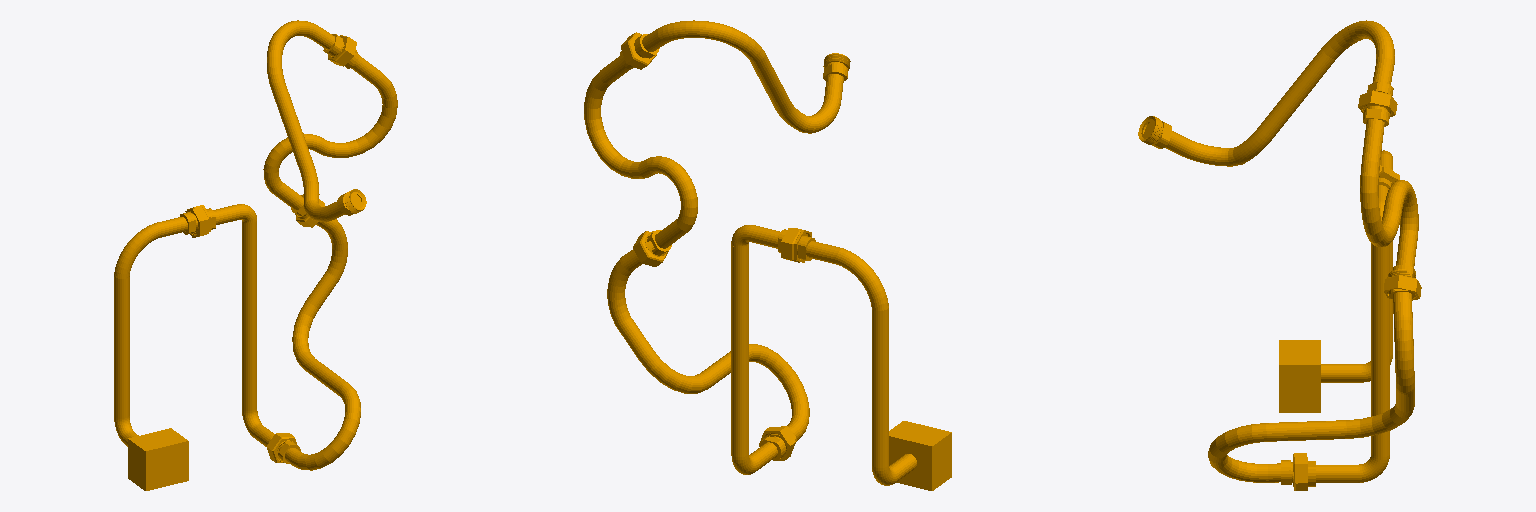
robot.urdf — pipedream_env:
<?xml version="1.0"?>
<robot name="pipedream_env">
  <link name="base_link">
    <visual>
      <geometry>
        <mesh filename="package://hpp-opml-benchmark/mesh/pipedream_env.stl"/>
      </geometry>
    </visual>
  </link>
</robot>

--- What the picture shows (computed from the rendered views, not written in the file) ---
Views: 3 orthographic renders of the robot side by side, from view 1: azimuth 30°, elevation 25°; view 2: azimuth 150°, elevation 25°; view 3: azimuth 270°, elevation 25°.
Model pipedream_env with 1 links and 0 joints (none), rooted at base_link, posed all joints at 0.
Visible links, largest first — view 1: base_link; view 2: base_link; view 3: base_link.
Boxes of the visible links, bbox=[...] form: base_link: bbox=[114, 20, 397, 490]; base_link: bbox=[584, 20, 951, 490]; base_link: bbox=[1138, 20, 1421, 490].
Bounding box of the posed robot: 0.8413 × 0.5966 × 1.13 m (x, y, z).
Meshes: 1 distinct files referenced, 1 mesh visuals loaded (1 binary STL).